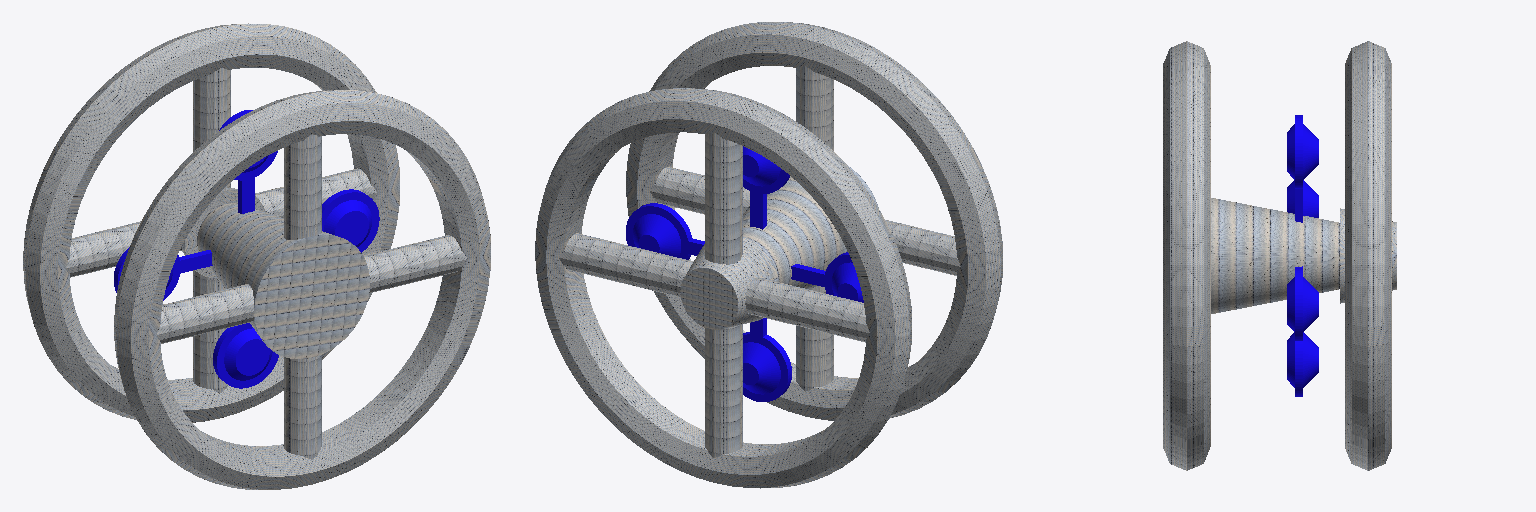
3 renders of one model, left to right at view 1: azimuth 30°, elevation 25°; view 2: azimuth 150°, elevation 25°; view 3: azimuth 270°, elevation 25°, orthographic.
Parts seen in each view (by area): view 1: couloir_circulaire.001, couloir_circulaire, corps_station, couloir_2.001, couloir_4.001, couloir_3.001, couloir_1.001, lancement_4, lancement_1, couloir_2, couloir_3, couloir_4 (+3 smaller); view 2: couloir_circulaire, couloir_circulaire.001, corps_station, couloir_4, couloir_2, couloir_1, couloir_3, lancement_4, lancement_1, couloir_3.001, couloir_2.001, couloir_4.001 (+3 smaller); view 3: couloir_circulaire.001, couloir_circulaire, corps_station, lancement_2, lancement_1, lancement_4, lancement_3.
Boxes of the visible parts, x1=… form: couloir_circulaire.001: x1=114, y1=90, x2=490, y2=489; couloir_circulaire: x1=23, y1=23, x2=399, y2=422; corps_station: x1=182, y1=188, x2=369, y2=358; couloir_2.001: x1=284, y1=134, x2=321, y2=239; couloir_4.001: x1=284, y1=355, x2=321, y2=459; couloir_3.001: x1=157, y1=284, x2=253, y2=343; couloir_1.001: x1=364, y1=235, x2=467, y2=292; lancement_4: x1=213, y1=323, x2=278, y2=388; lancement_1: x1=322, y1=189, x2=379, y2=252; couloir_2: x1=193, y1=68, x2=230, y2=188; couloir_3: x1=66, y1=221, x2=181, y2=277; couloir_4: x1=193, y1=270, x2=227, y2=392; couloir_circulaire: x1=535, y1=88, x2=911, y2=488; couloir_circulaire.001: x1=626, y1=22, x2=1002, y2=420; corps_station: x1=680, y1=166, x2=878, y2=329; couloir_4: x1=705, y1=324, x2=742, y2=457; couloir_2: x1=705, y1=133, x2=742, y2=264; couloir_1: x1=559, y1=233, x2=693, y2=296; couloir_3: x1=745, y1=278, x2=869, y2=342; lancement_4: x1=743, y1=318, x2=791, y2=401; lancement_1: x1=626, y1=203, x2=704, y2=259; couloir_3.001: x1=885, y1=220, x2=960, y2=275; couloir_2.001: x1=796, y1=66, x2=833, y2=150; couloir_4.001: x1=796, y1=286, x2=833, y2=391; couloir_circulaire.001: x1=1163, y1=41, x2=1210, y2=470; couloir_circulaire: x1=1345, y1=41, x2=1391, y2=470; corps_station: x1=1211, y1=198, x2=1396, y2=313; lancement_2: x1=1287, y1=115, x2=1318, y2=222; lancement_1: x1=1287, y1=266, x2=1318, y2=340; lancement_4: x1=1287, y1=332, x2=1318, y2=396; lancement_3: x1=1287, y1=180, x2=1318, y2=217.
Size of the model in its own units: 45 by 45 by 24.5.
2 materials, 2 textured.